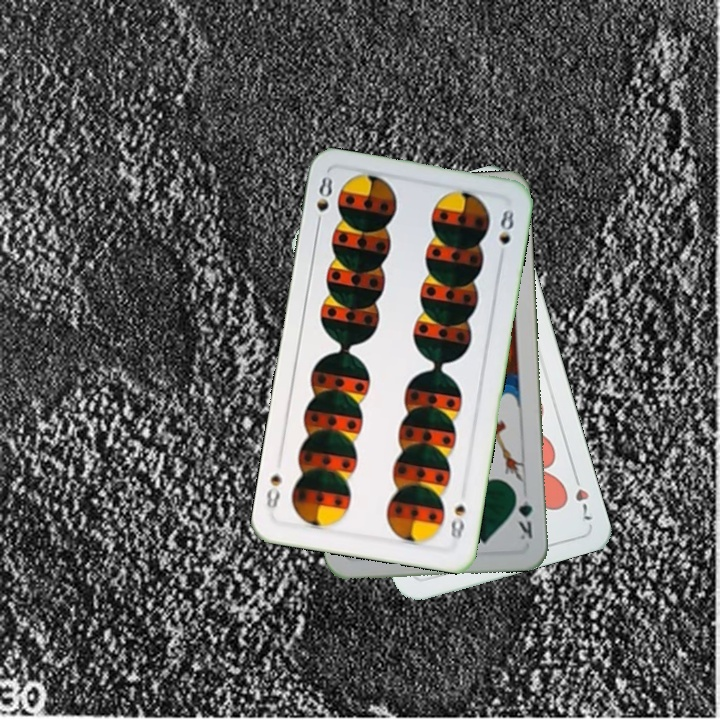GK: (511, 486, 535, 543)
H7: (569, 468, 595, 523)
S8: (312, 173, 335, 231), (446, 500, 468, 542)
